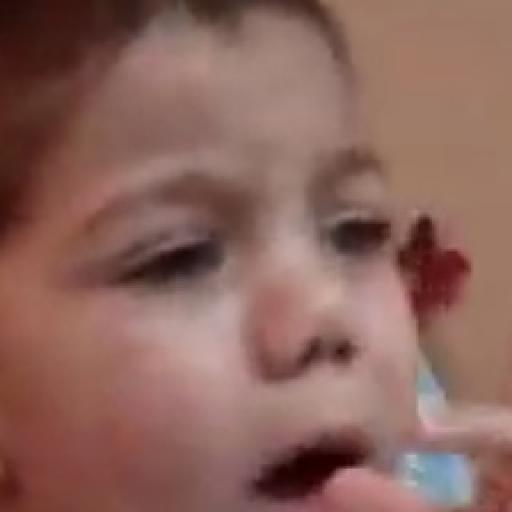Autism: (50, 36, 509, 512)
